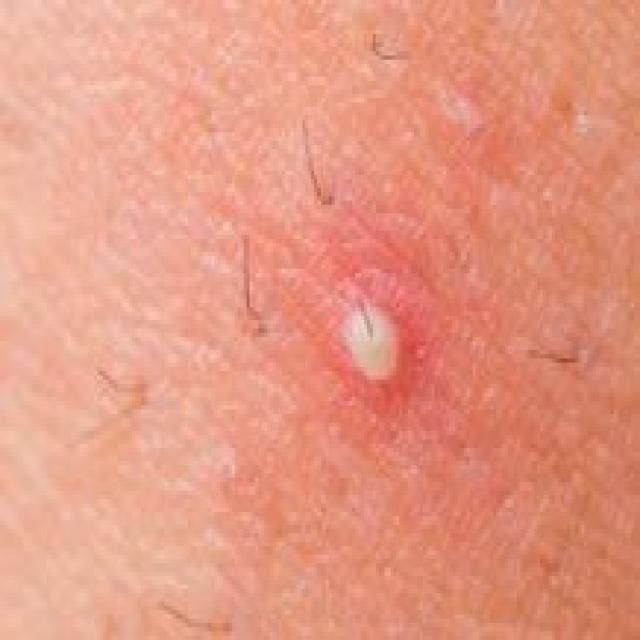pustule: (317, 273, 427, 430)
